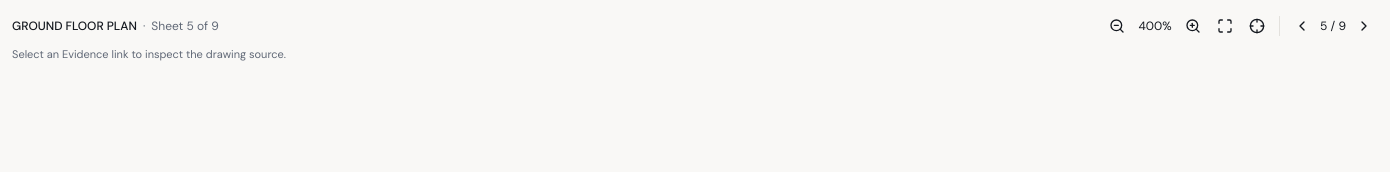
it: PdfEvidenceViewer — sheet identity (page title) › shows only the bare position — never an invented title — for a page with no title entry
Click the button titled "Next page".
click(1364, 26)  # box [1350,12,1378,40]
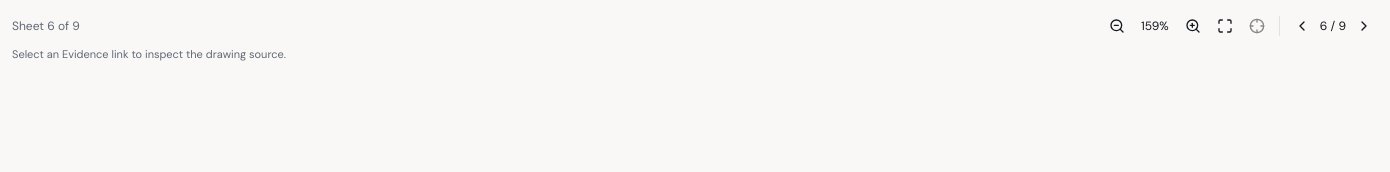
Check: the text "Sheet 6 of 9" is shown, box [12,18,80,34]
Check: the text "GROUND FLOOR PLAN" is gone
